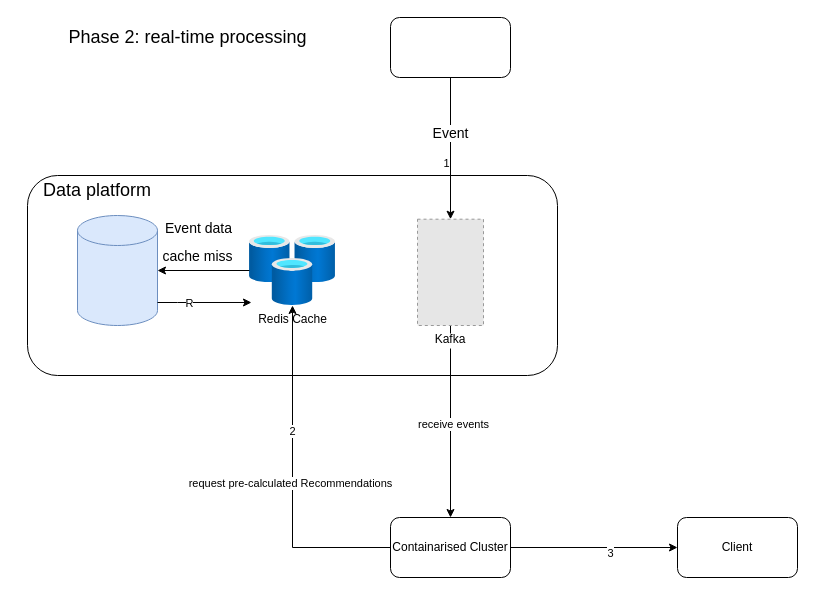
Some shapes in this 815 by 595 pixel diagram are drawn without their labels. Grey dashed boxes stand in for pictures. Each missing label, with the centre of its shape:
"carte de fidelite" goes at [450,47].
"Structured (postgreSQL)" goes at [117,270].
